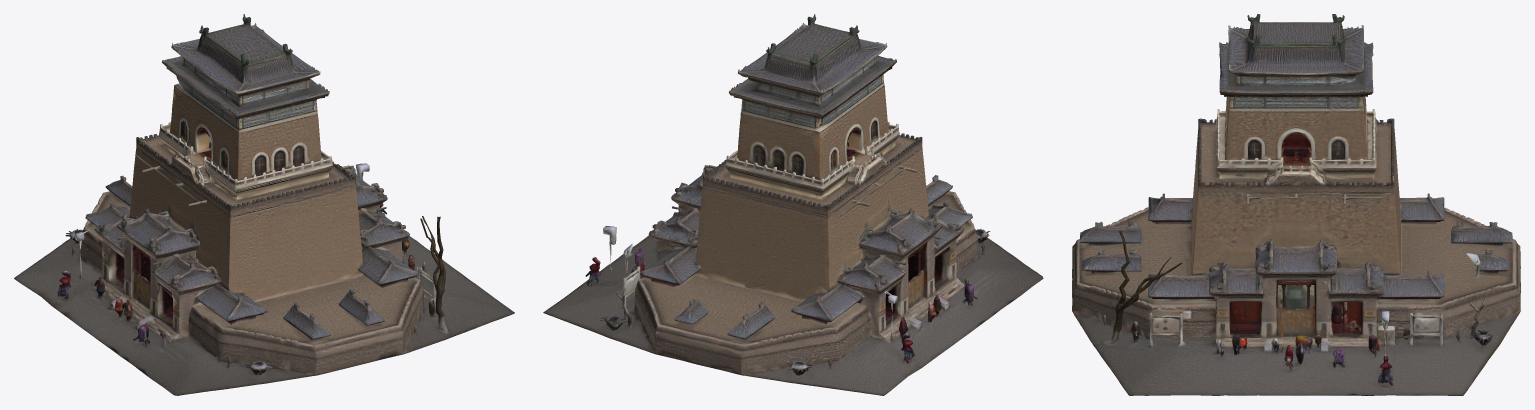
File: detail.glb
3 views of the same model, side by side, from view 1: azimuth 30°, elevation 25°; view 2: azimuth 150°, elevation 25°; view 3: azimuth 270°, elevation 25° (orthographic). The views are drawn at different scales.
Parts seen in each view (by area): view 1: bell/tripo_node_699a5ef1-6457-416d-8bf5-67d091d52f18; view 2: bell/tripo_node_699a5ef1-6457-416d-8bf5-67d091d52f18; view 3: bell/tripo_node_699a5ef1-6457-416d-8bf5-67d091d52f18.
Boxes of the visible parts, <box> form: bell/tripo_node_699a5ef1-6457-416d-8bf5-67d091d52f18: <box>14,14,514,395</box>; bell/tripo_node_699a5ef1-6457-416d-8bf5-67d091d52f18: <box>543,14,1043,395</box>; bell/tripo_node_699a5ef1-6457-416d-8bf5-67d091d52f18: <box>1072,14,1520,395</box>.
Bounding box in the file's own units: 0.6193 × 0.46 × 0.6797.
1 material, 1 textured.
